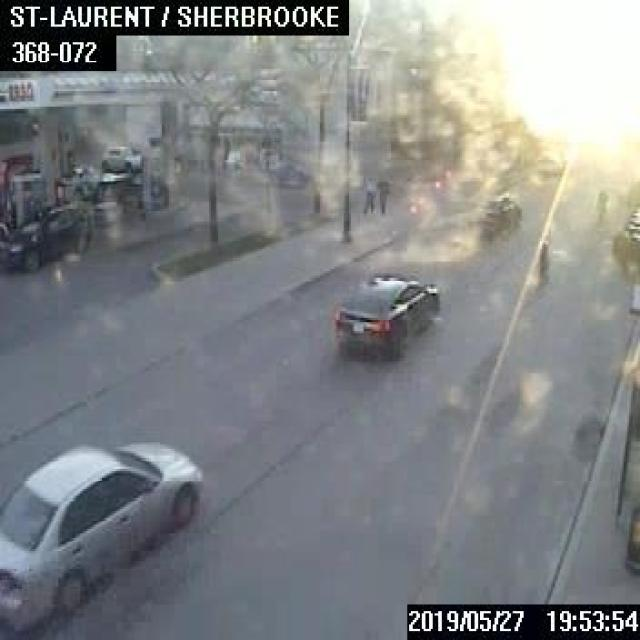cyclist: (595, 184, 607, 229), (536, 241, 548, 286)
pedestrian: (362, 173, 376, 211), (374, 175, 388, 211)
vehicle: (0, 438, 204, 629), (332, 271, 440, 356), (0, 203, 89, 270), (55, 163, 102, 200), (475, 193, 520, 231), (100, 144, 134, 171)
